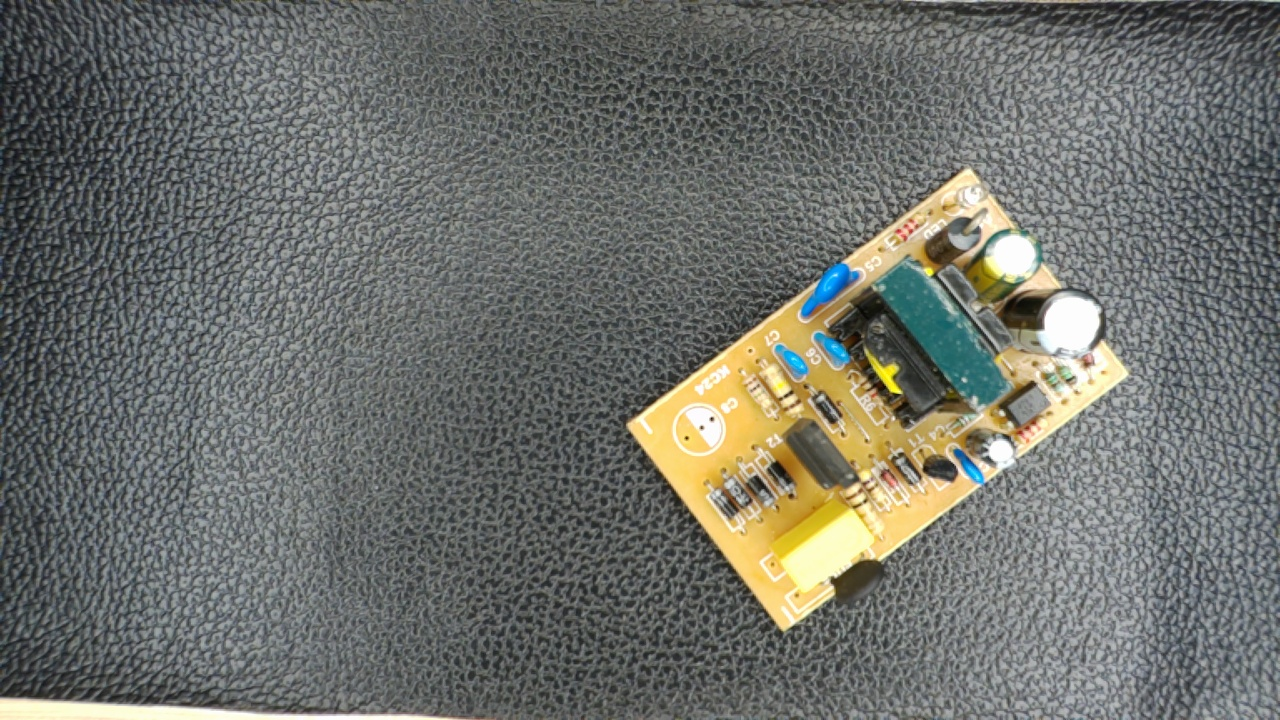fuse: (818, 549, 891, 608)
mov: (794, 260, 866, 318)
optocoupler: (999, 380, 1052, 429)
